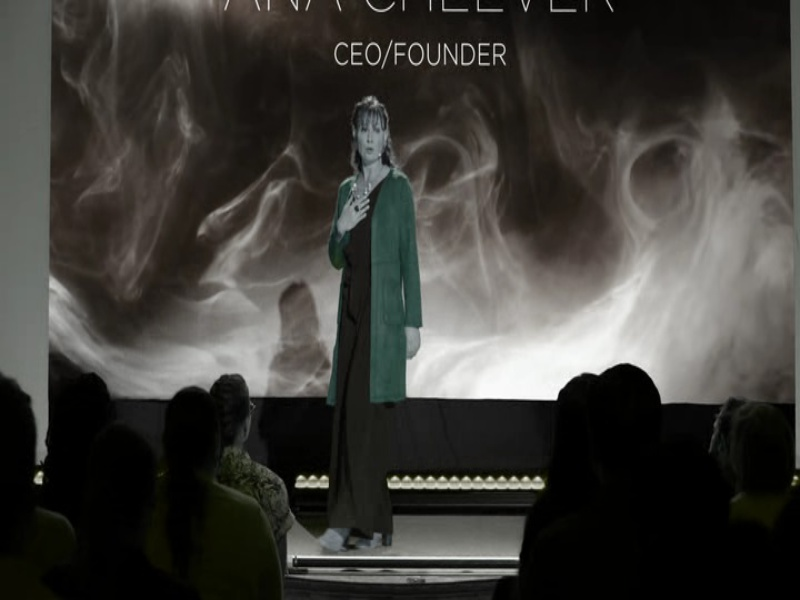TsisyArotava: (347, 95, 397, 175)
